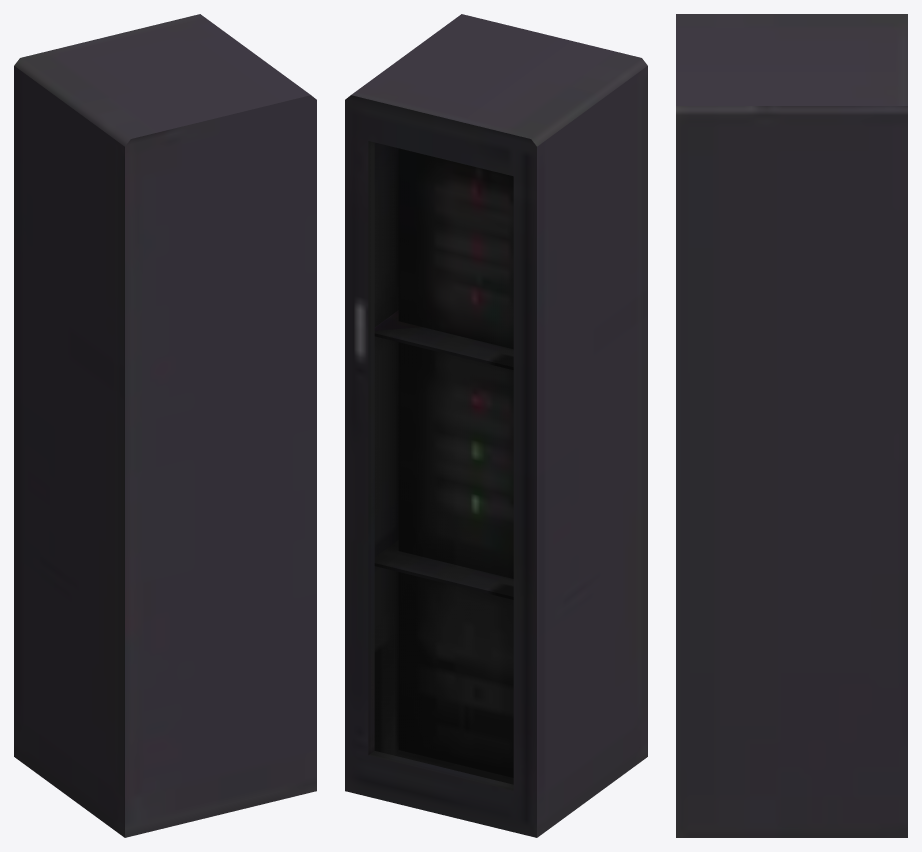
Rendered from server-tower.glb.
The picture shows the model from 3 angles, left to right: view 1: azimuth 30°, elevation 25°; view 2: azimuth 150°, elevation 25°; view 3: azimuth 270°, elevation 25°; orthographic projection. The views are drawn at different scales.
Parts seen in each view (by area): view 1: Object_3; view 2: Object_3; view 3: Object_3.
Part boxes in pixels (x1,y1,x2,y2): Object_3: (14, 14, 316, 837); Object_3: (345, 14, 647, 837); Object_3: (676, 14, 907, 837).
Bounding box in the file's own units: 0.6014 × 2.09 × 0.6014.
2 materials, 1 textured.
